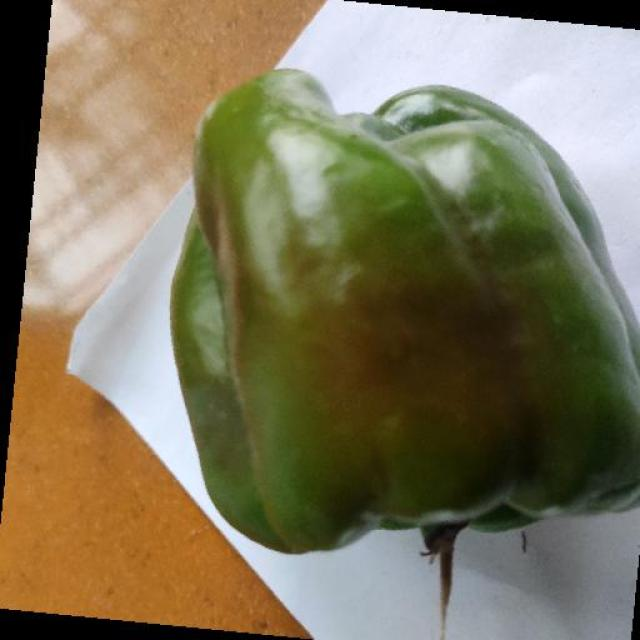Stale_Capsicum: (177, 88, 635, 546)
